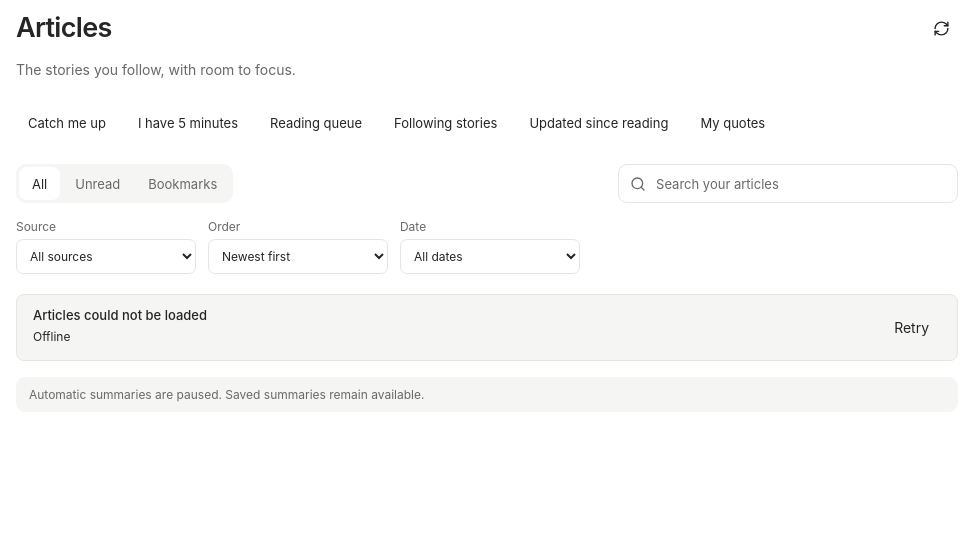
Test: does not mislabel an article-fetch failure as an empty library and can retry
The image size is (975, 552).
Expected: the text "Articles could not be loaded" is shown, [33,307,207,323]
Expected: the text "Your reading starts here" is not shown
Click the button "Retry" at (912, 327), box [882,310,941,344]
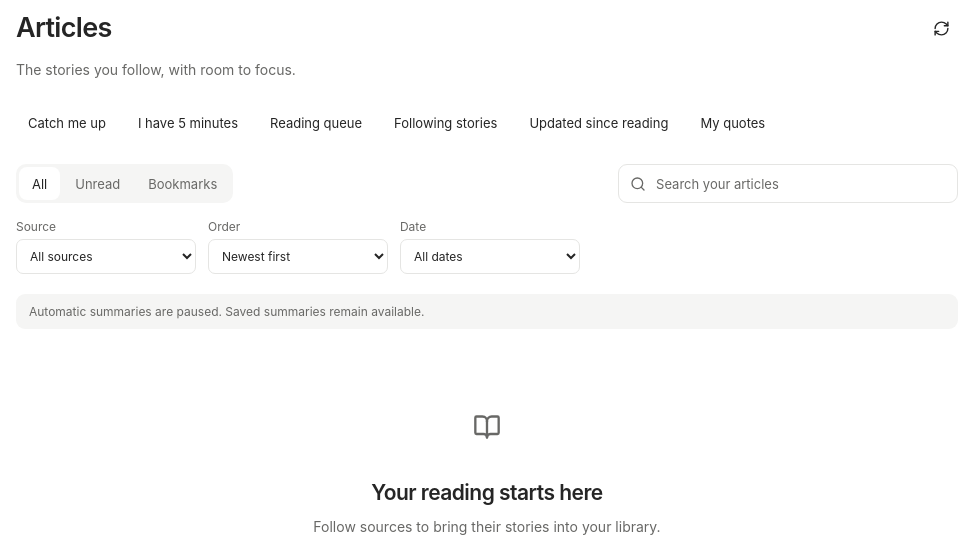
Result: the heading "Your reading starts here" is shown at [371,480,603,505]
Result: the message "Articles could not be loaded Offline Retry" is gone
